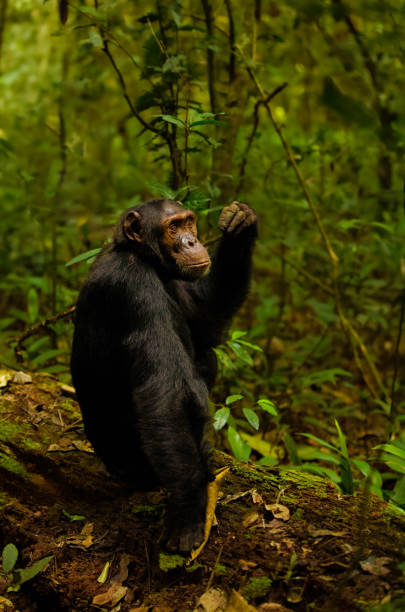chimpanzee: (101, 179, 220, 298)
